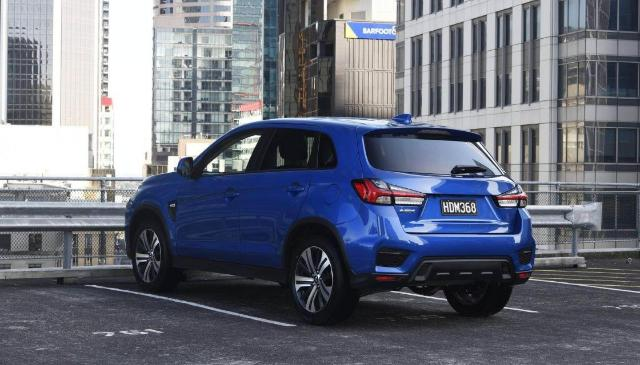Rego: (440, 201, 478, 216)
